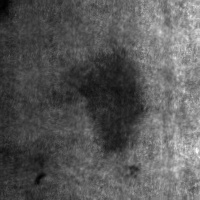patches: (72, 45, 146, 158)
